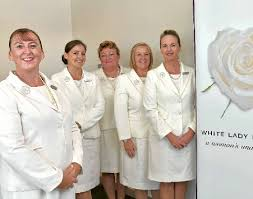white_female: (9, 24, 50, 78)
